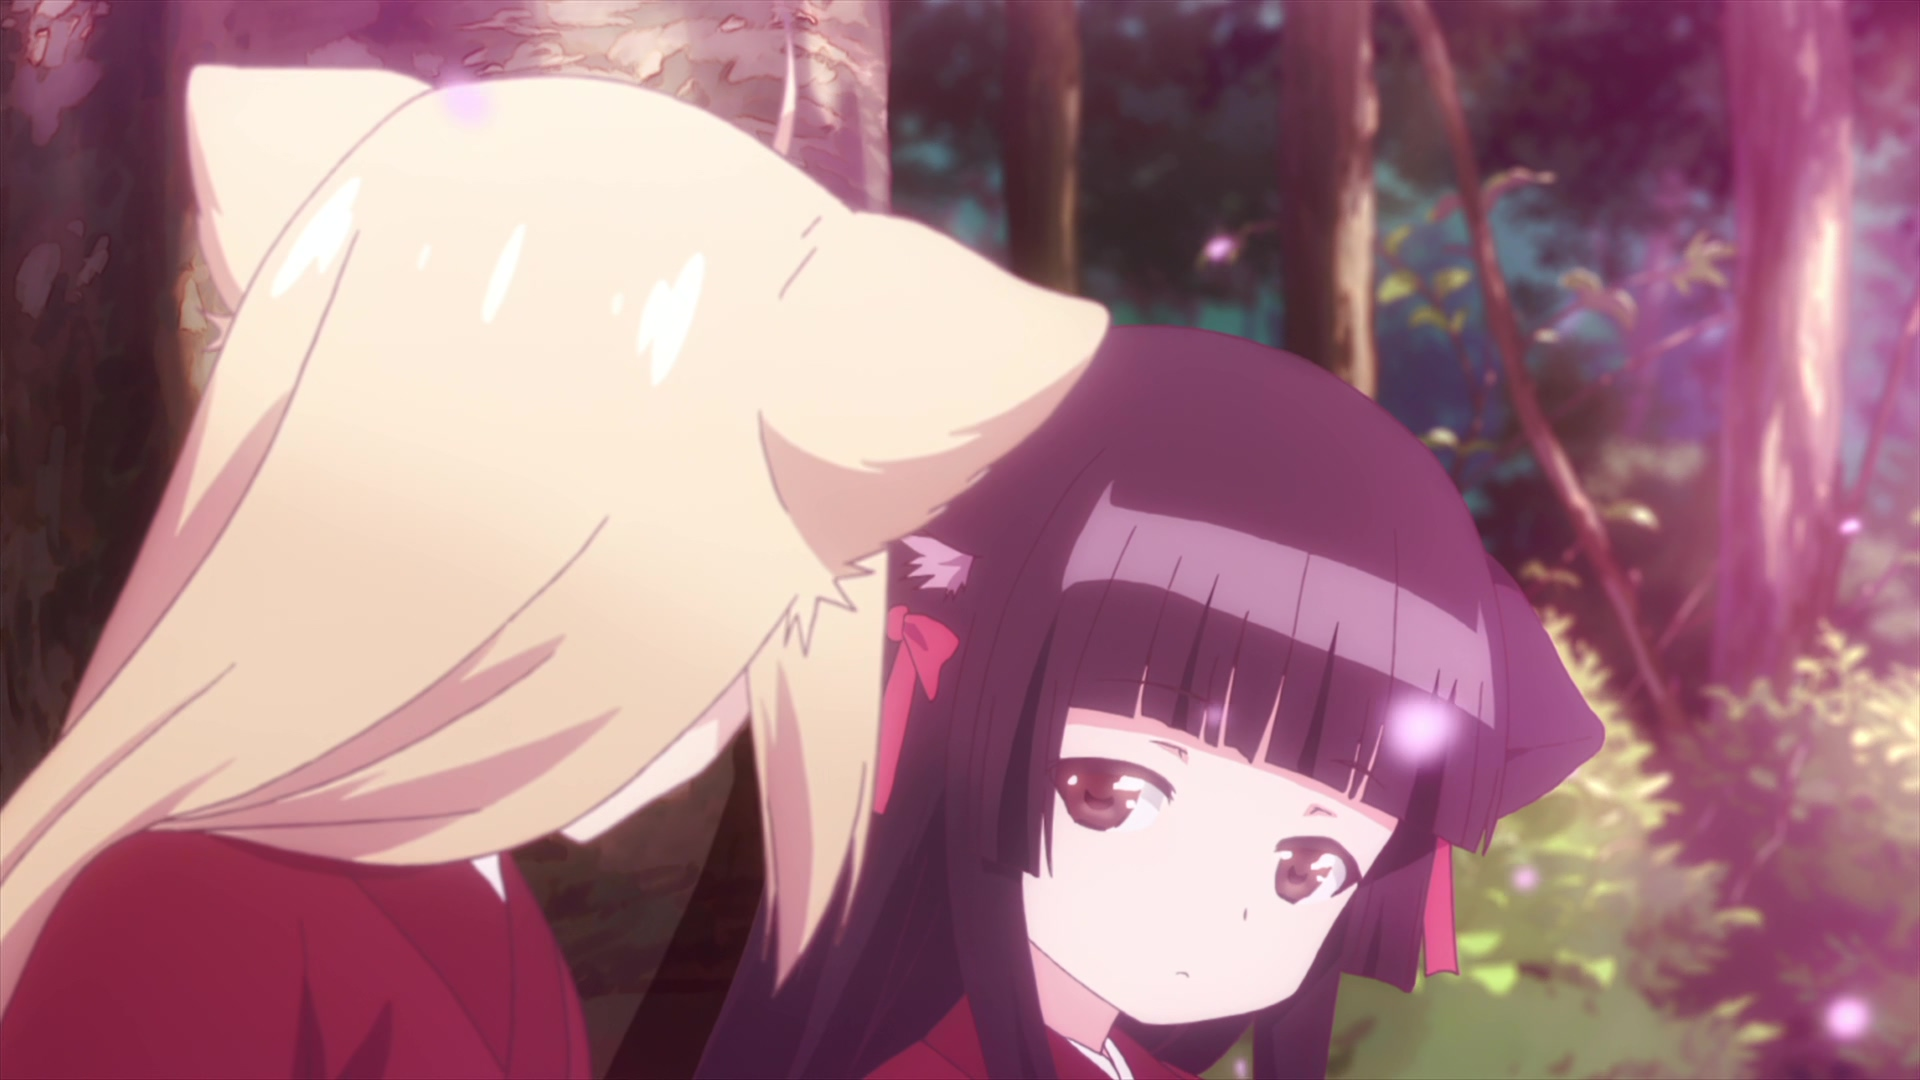柚: (1, 63, 1108, 1080)
樱: (699, 323, 1604, 1080)
